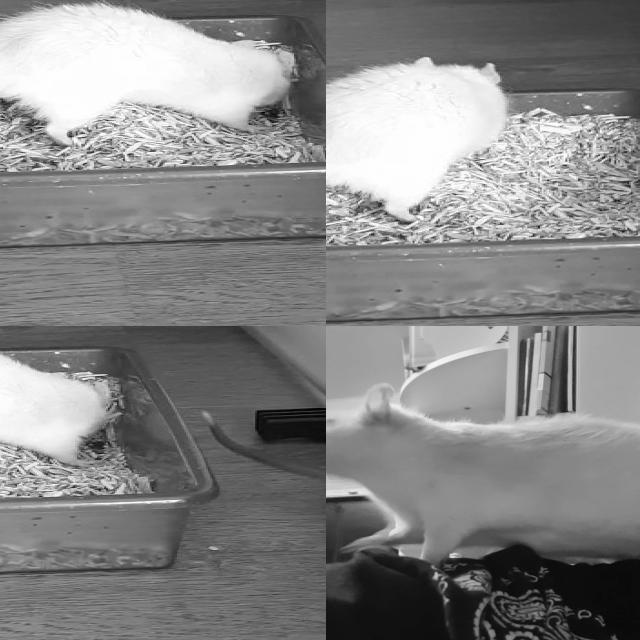rat: (326, 382, 640, 564), (0, 4, 305, 147), (326, 56, 513, 222), (0, 335, 102, 468)
